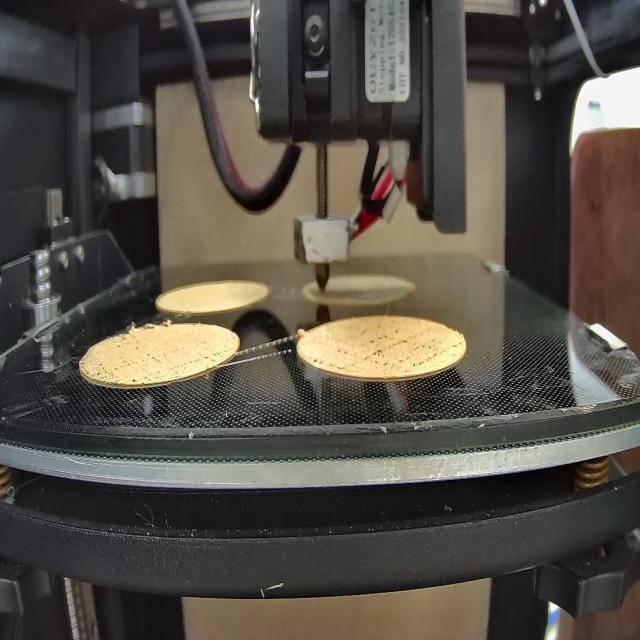under_extrusion: (367, 326, 444, 371), (96, 344, 162, 384), (313, 344, 350, 374), (178, 354, 224, 370)
